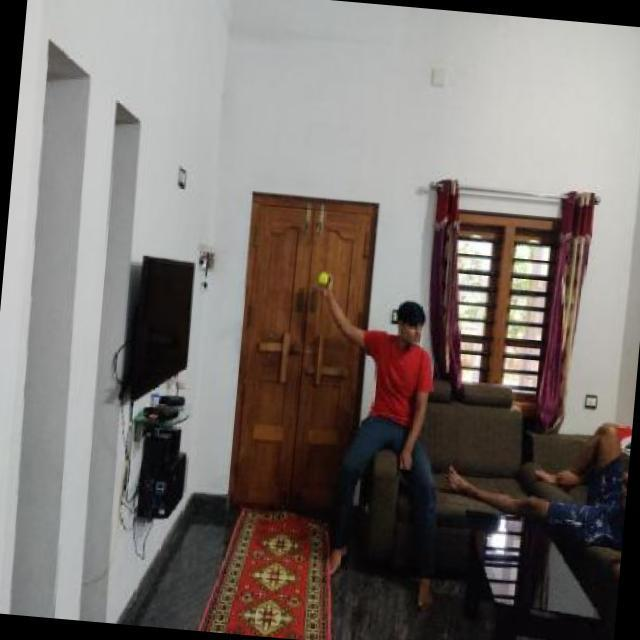-: (307, 263, 337, 294)
